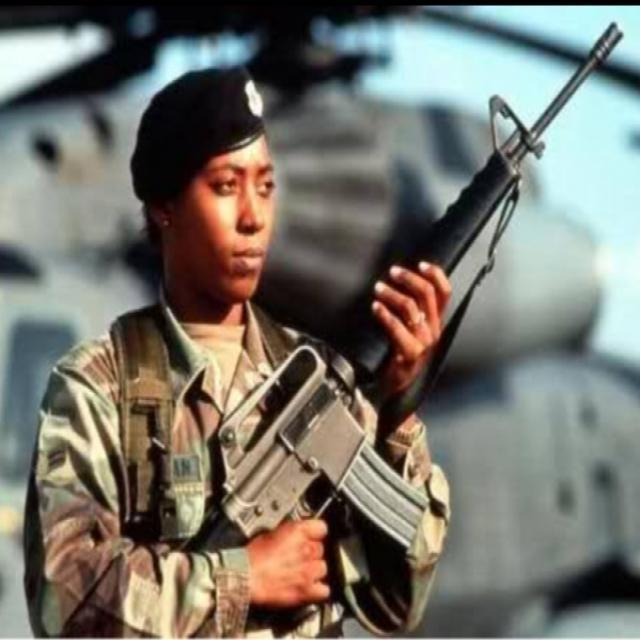m16: (281, 11, 640, 595)
